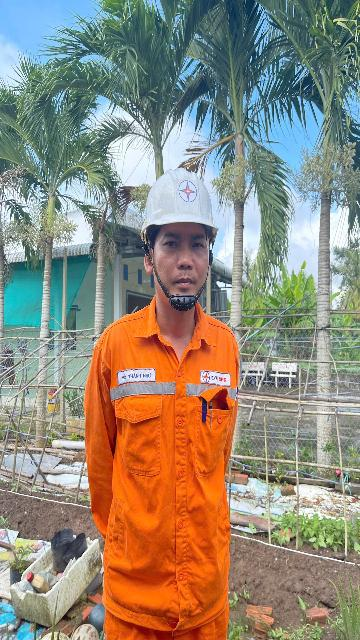helmet: (127, 158, 235, 242)
